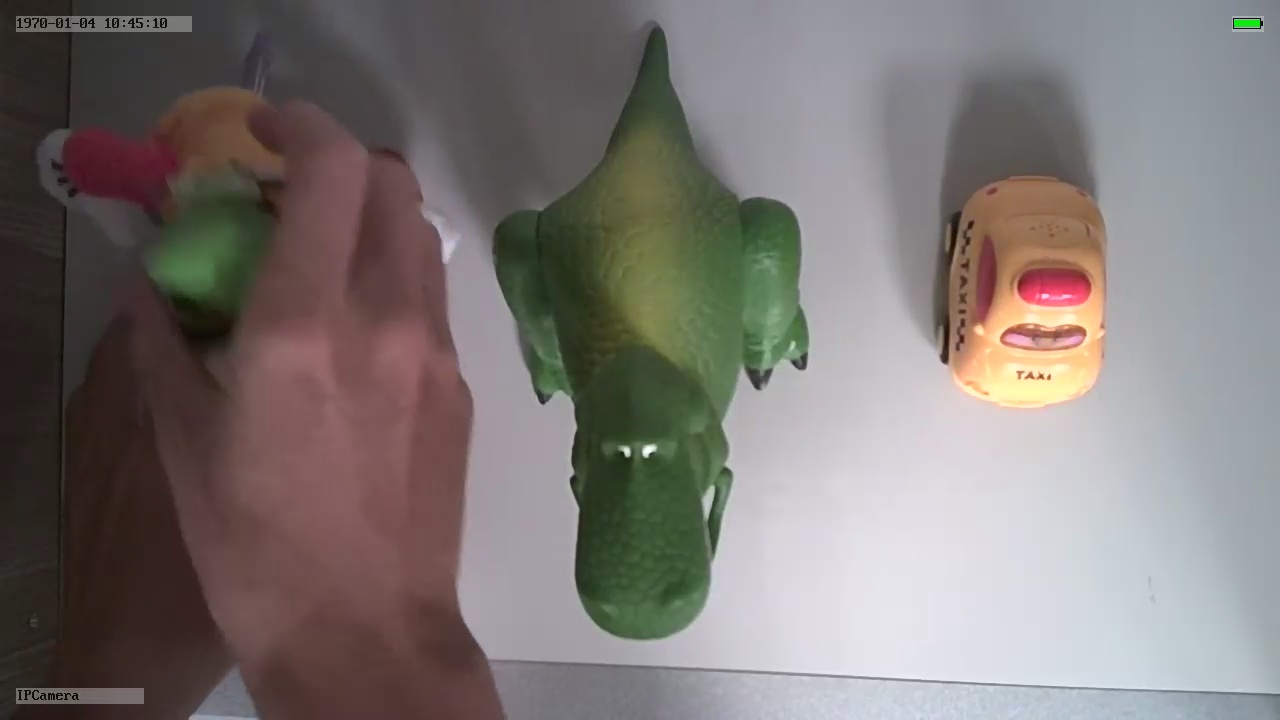car: (935, 166, 1112, 413)
rex: (491, 105, 813, 644)
